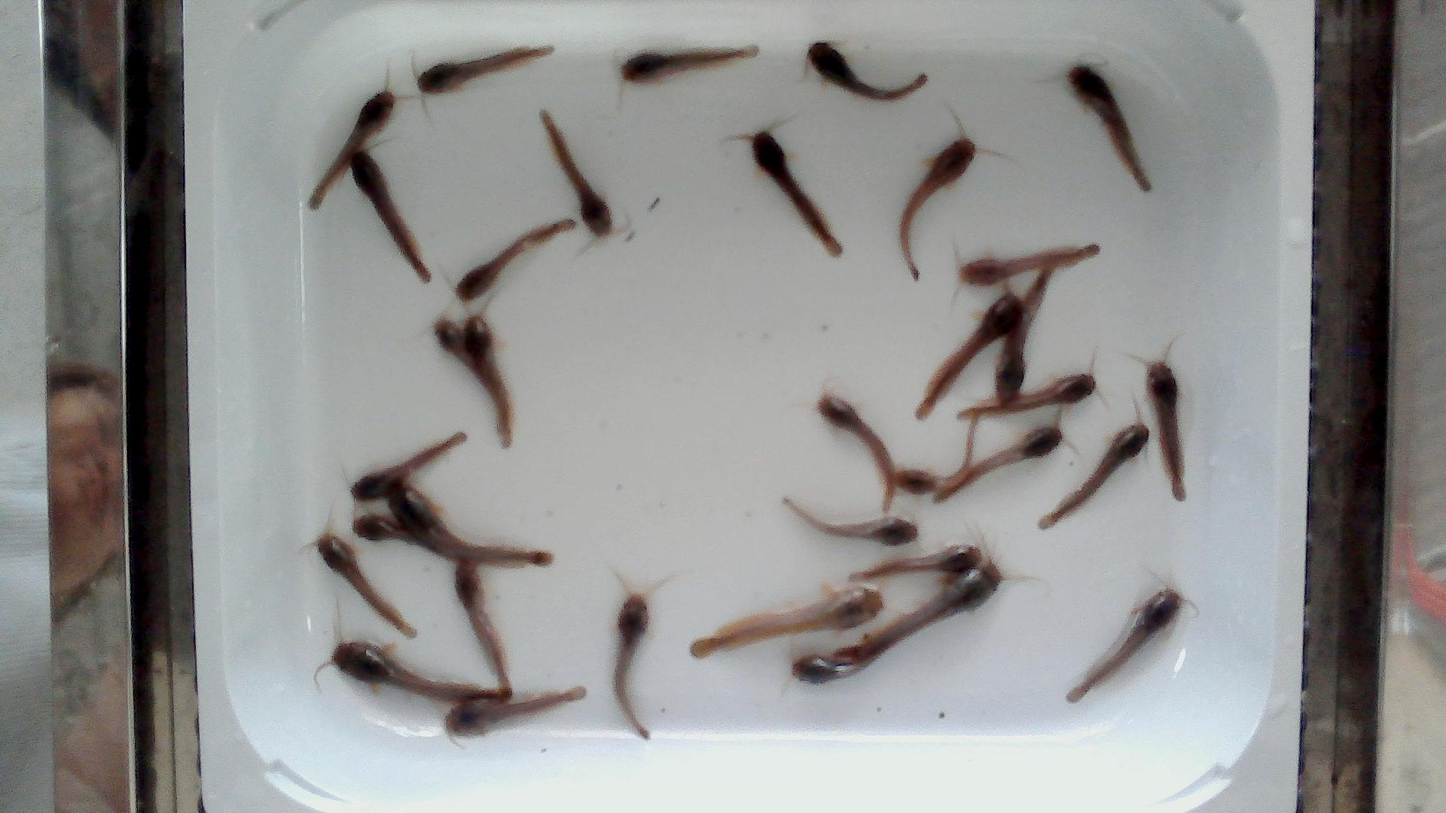lele: (837, 560, 1004, 658), (390, 482, 556, 568), (691, 586, 883, 656), (1067, 587, 1183, 702), (917, 293, 1022, 417), (1039, 423, 1149, 528), (750, 131, 841, 257), (331, 641, 511, 704), (900, 137, 975, 279), (316, 532, 416, 636), (1067, 65, 1149, 191), (351, 151, 430, 281), (310, 91, 395, 208), (932, 425, 1061, 501), (456, 221, 575, 302), (817, 393, 897, 510), (539, 111, 613, 236), (994, 265, 1059, 403), (892, 411, 984, 495), (433, 320, 503, 430), (352, 432, 465, 500), (455, 561, 511, 698), (807, 42, 927, 100), (460, 316, 512, 449), (446, 687, 585, 735), (783, 498, 917, 546), (957, 373, 1095, 419), (351, 515, 472, 567), (417, 47, 553, 93), (959, 244, 1099, 285), (1146, 361, 1184, 500), (614, 593, 649, 739), (850, 545, 983, 581), (621, 46, 757, 81), (789, 646, 888, 685)
